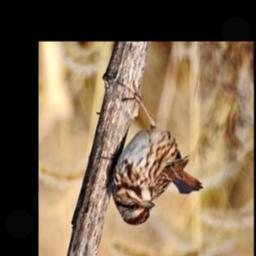Sparrow: (108, 80, 205, 227)
